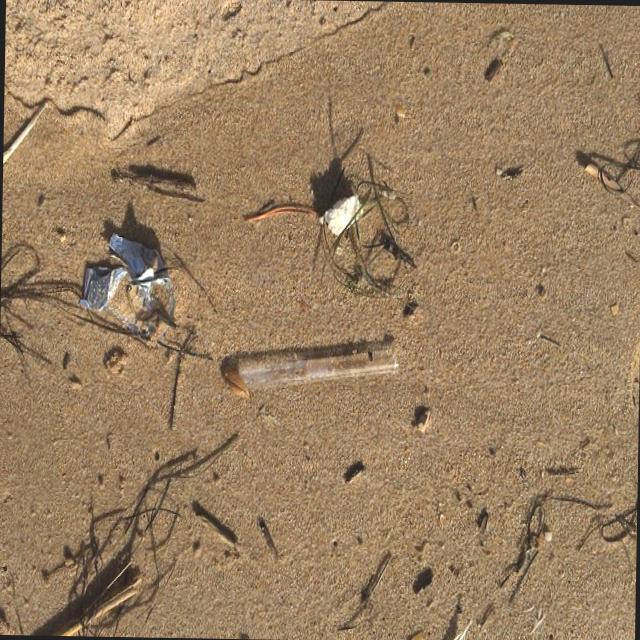Trash: (72, 224, 180, 336), (242, 343, 402, 386), (319, 192, 368, 234)
